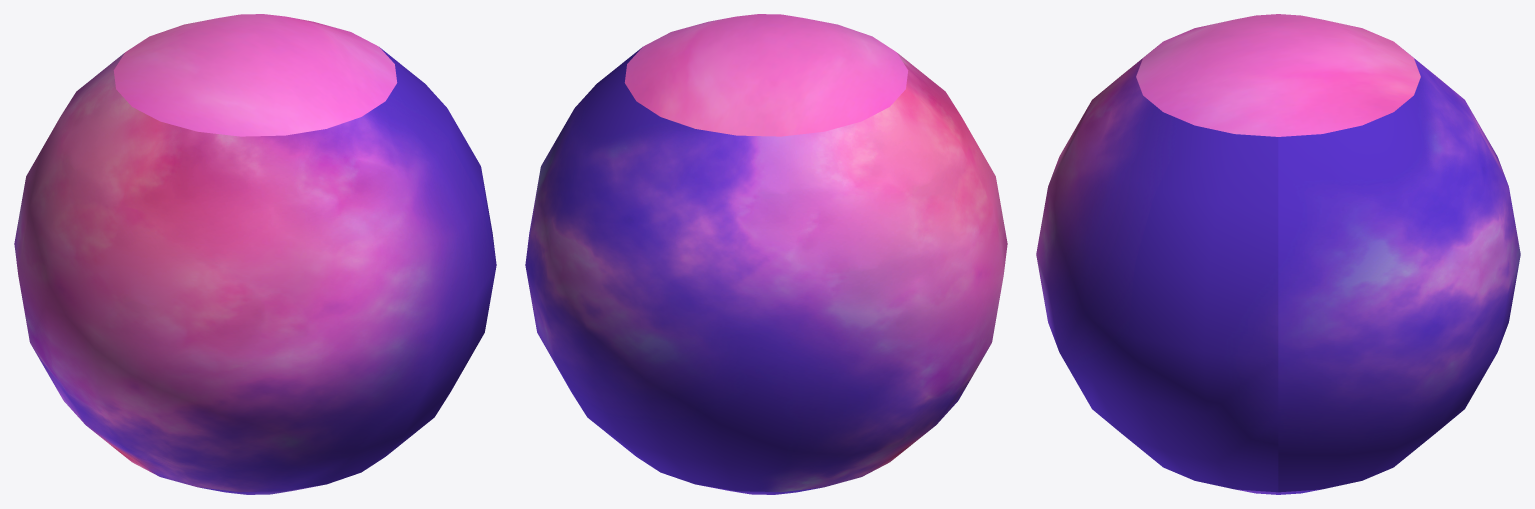
Rendered from stage.glb.
3 views of the same model, side by side, from view 1: azimuth 30°, elevation 25°; view 2: azimuth 150°, elevation 25°; view 3: azimuth 270°, elevation 25° (orthographic).
Parts seen in each view (by area): view 1: KORE_export_Zeno Expo Arena; view 2: KORE_export_Zeno Expo Arena; view 3: KORE_export_Zeno Expo Arena.
Part boxes in pixels (x1=…): KORE_export_Zeno Expo Arena: x1=14, y1=14, x2=496, y2=494; KORE_export_Zeno Expo Arena: x1=525, y1=14, x2=1007, y2=494; KORE_export_Zeno Expo Arena: x1=1036, y1=14, x2=1520, y2=494.
Size of the model in its own units: 18 by 18 by 18.
13 materials, 12 textured.
